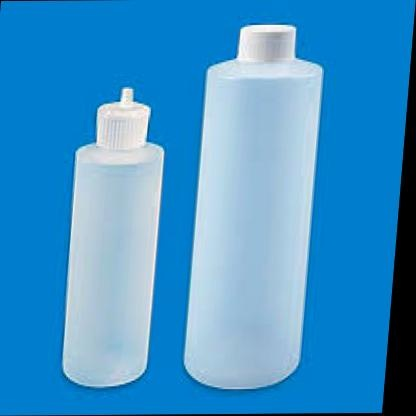trash: (184, 25, 321, 388), (63, 87, 163, 386)
